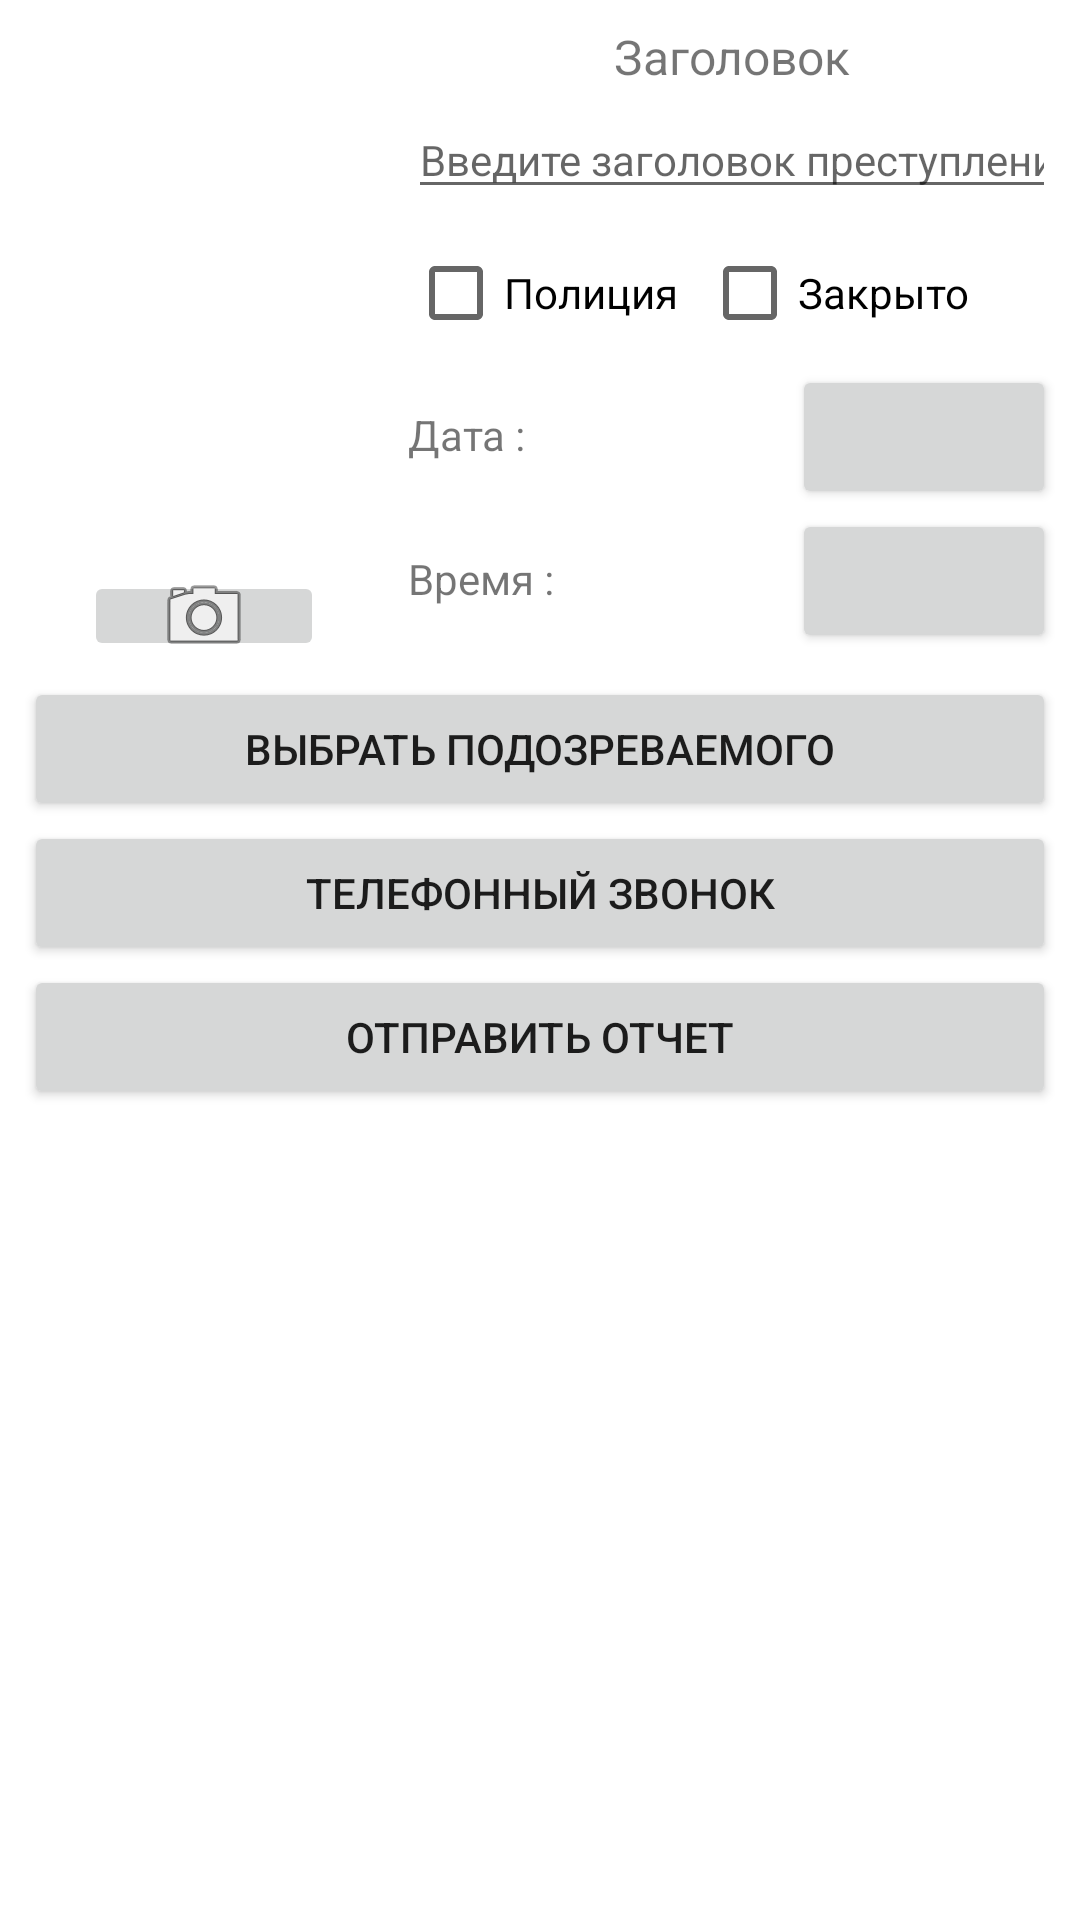

Icon bounding boxes for this 1080px x 1920px phone screenshot, format (x1, y1, x2, y2):
camera: (96, 585, 312, 644)
